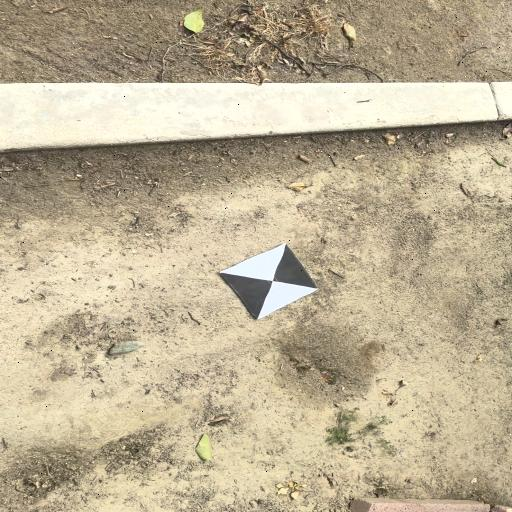target: (220, 243, 319, 320)
